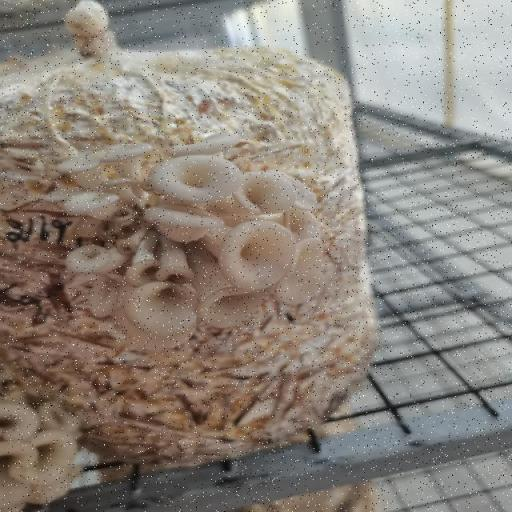White Oyster Mushroom: (52, 137, 318, 357)
